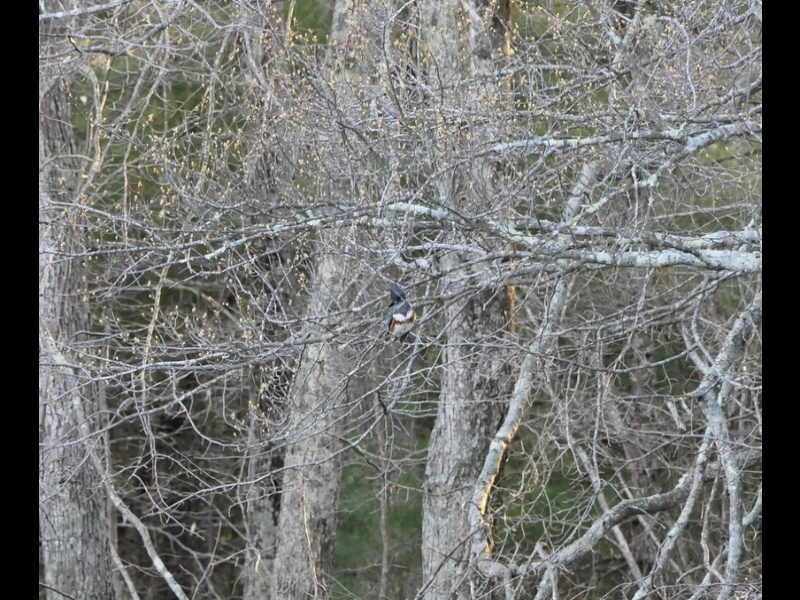kingfisher: (385, 280, 424, 348)
